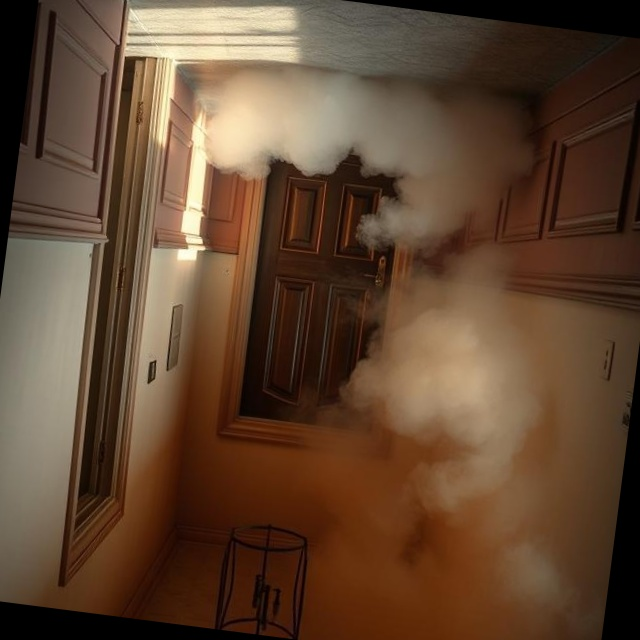smoke: (123, 34, 625, 599)
